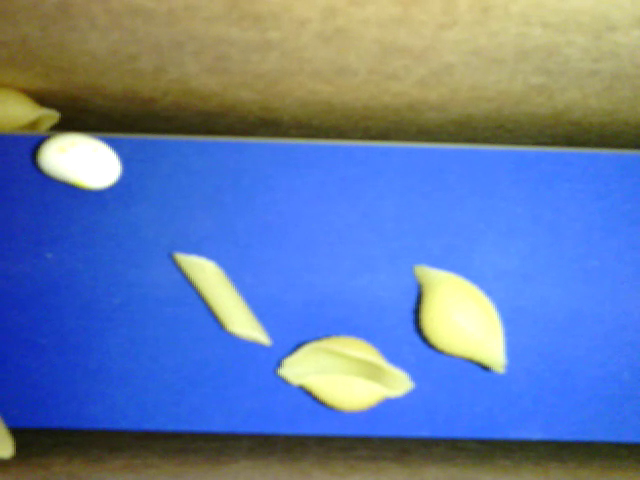penne: (171, 240, 272, 352)
shell: (403, 257, 514, 377), (274, 326, 416, 412), (2, 86, 81, 129)
